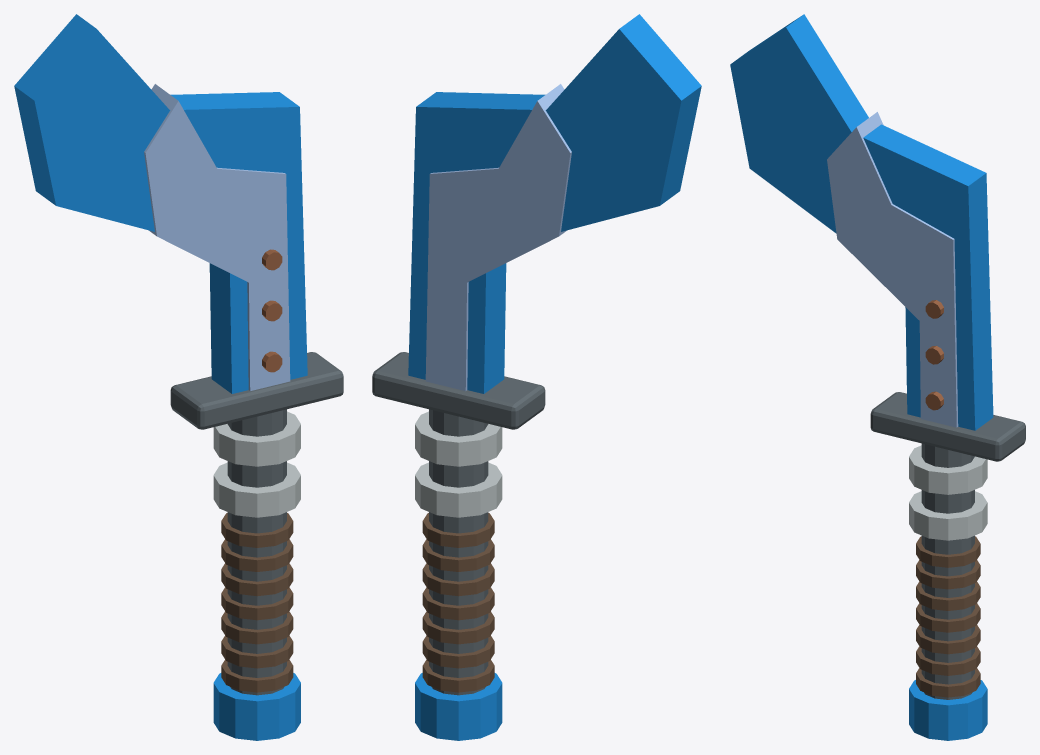
The model's file is MirrorAxe.fbx.
3 views of the same model, side by side, from view 1: azimuth 30°, elevation 25°; view 2: azimuth 150°, elevation 25°; view 3: azimuth 330°, elevation 25° (orthographic). The views are drawn at different scales.
Visible parts, largest first — view 1: Silhouette.007, Noyau.007, Manche.007, Garde.007, Pommeau.007, Collier.014, Collier.015, Bande_06.007, Bande_02.007, Bande_00.007, Bande_03.007, Bande_01.007 (+2 smaller); view 2: Silhouette.007, Noyau.007, Manche.007, Garde.007, Pommeau.007, Collier.014, Collier.015, Bande_06.007, Bande_02.007, Bande_00.007, Bande_03.007, Bande_01.007 (+2 smaller); view 3: Silhouette.007, Noyau.007, Manche.007, Garde.007, Pommeau.007, Collier.014, Collier.015, Bande_06.007, Bande_03.007, Bande_01.007, Bande_04.007, Bande_00.007 (+2 smaller).
Boxes of the visible parts, x1=… form: Silhouette.007: x1=14, y1=14, x2=307, y2=393; Noyau.007: x1=144, y1=84, x2=290, y2=391; Manche.007: x1=227, y1=409, x2=286, y2=695; Garde.007: x1=170, y1=352, x2=343, y2=429; Pommeau.007: x1=213, y1=673, x2=300, y2=740; Collier.014: x1=213, y1=462, x2=300, y2=517; Collier.015: x1=213, y1=411, x2=300, y2=466; Bande_06.007: x1=221, y1=513, x2=293, y2=547; Bande_02.007: x1=221, y1=611, x2=293, y2=644; Bande_00.007: x1=221, y1=659, x2=293, y2=692; Bande_03.007: x1=221, y1=587, x2=293, y2=620; Bande_01.007: x1=221, y1=635, x2=293, y2=668; Silhouette.007: x1=408, y1=14, x2=701, y2=393; Noyau.007: x1=425, y1=84, x2=571, y2=391; Manche.007: x1=429, y1=409, x2=488, y2=695; Garde.007: x1=372, y1=352, x2=545, y2=429; Pommeau.007: x1=415, y1=673, x2=502, y2=740; Collier.014: x1=415, y1=462, x2=502, y2=517; Collier.015: x1=415, y1=411, x2=502, y2=466; Bande_06.007: x1=422, y1=513, x2=494, y2=547; Bande_02.007: x1=422, y1=611, x2=494, y2=644; Bande_00.007: x1=422, y1=659, x2=494, y2=692; Bande_03.007: x1=422, y1=587, x2=494, y2=620; Bande_01.007: x1=422, y1=635, x2=494, y2=668; Silhouette.007: x1=730, y1=14, x2=993, y2=430; Noyau.007: x1=827, y1=112, x2=958, y2=427; Manche.007: x1=921, y1=443, x2=974, y2=699; Garde.007: x1=870, y1=392, x2=1025, y2=461; Pommeau.007: x1=909, y1=680, x2=987, y2=740; Collier.014: x1=909, y1=491, x2=987, y2=540; Collier.015: x1=909, y1=445, x2=987, y2=494; Bande_06.007: x1=916, y1=536, x2=980, y2=567; Bande_03.007: x1=916, y1=603, x2=980, y2=632; Bande_01.007: x1=916, y1=646, x2=980, y2=675; Bande_04.007: x1=916, y1=581, x2=980, y2=610; Bande_00.007: x1=916, y1=668, x2=980, y2=697.
Bounding box in the file's own units: 113 × 262 × 28.
